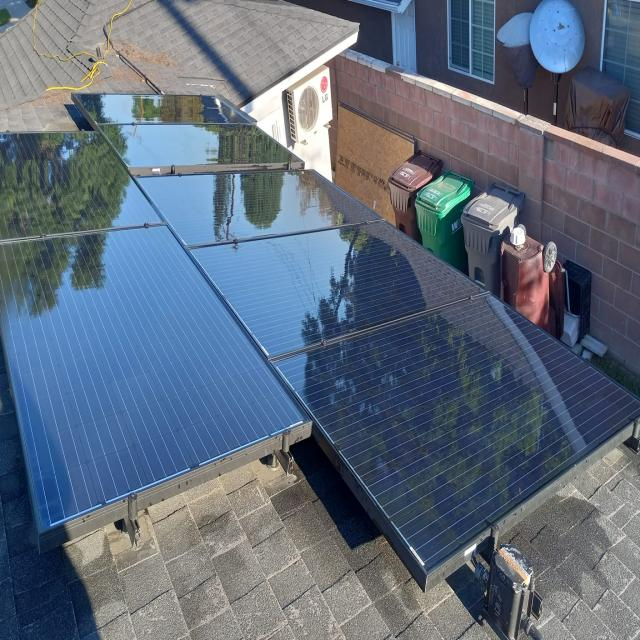clean-solar-panel: (80, 97, 640, 589), (0, 133, 305, 533)
